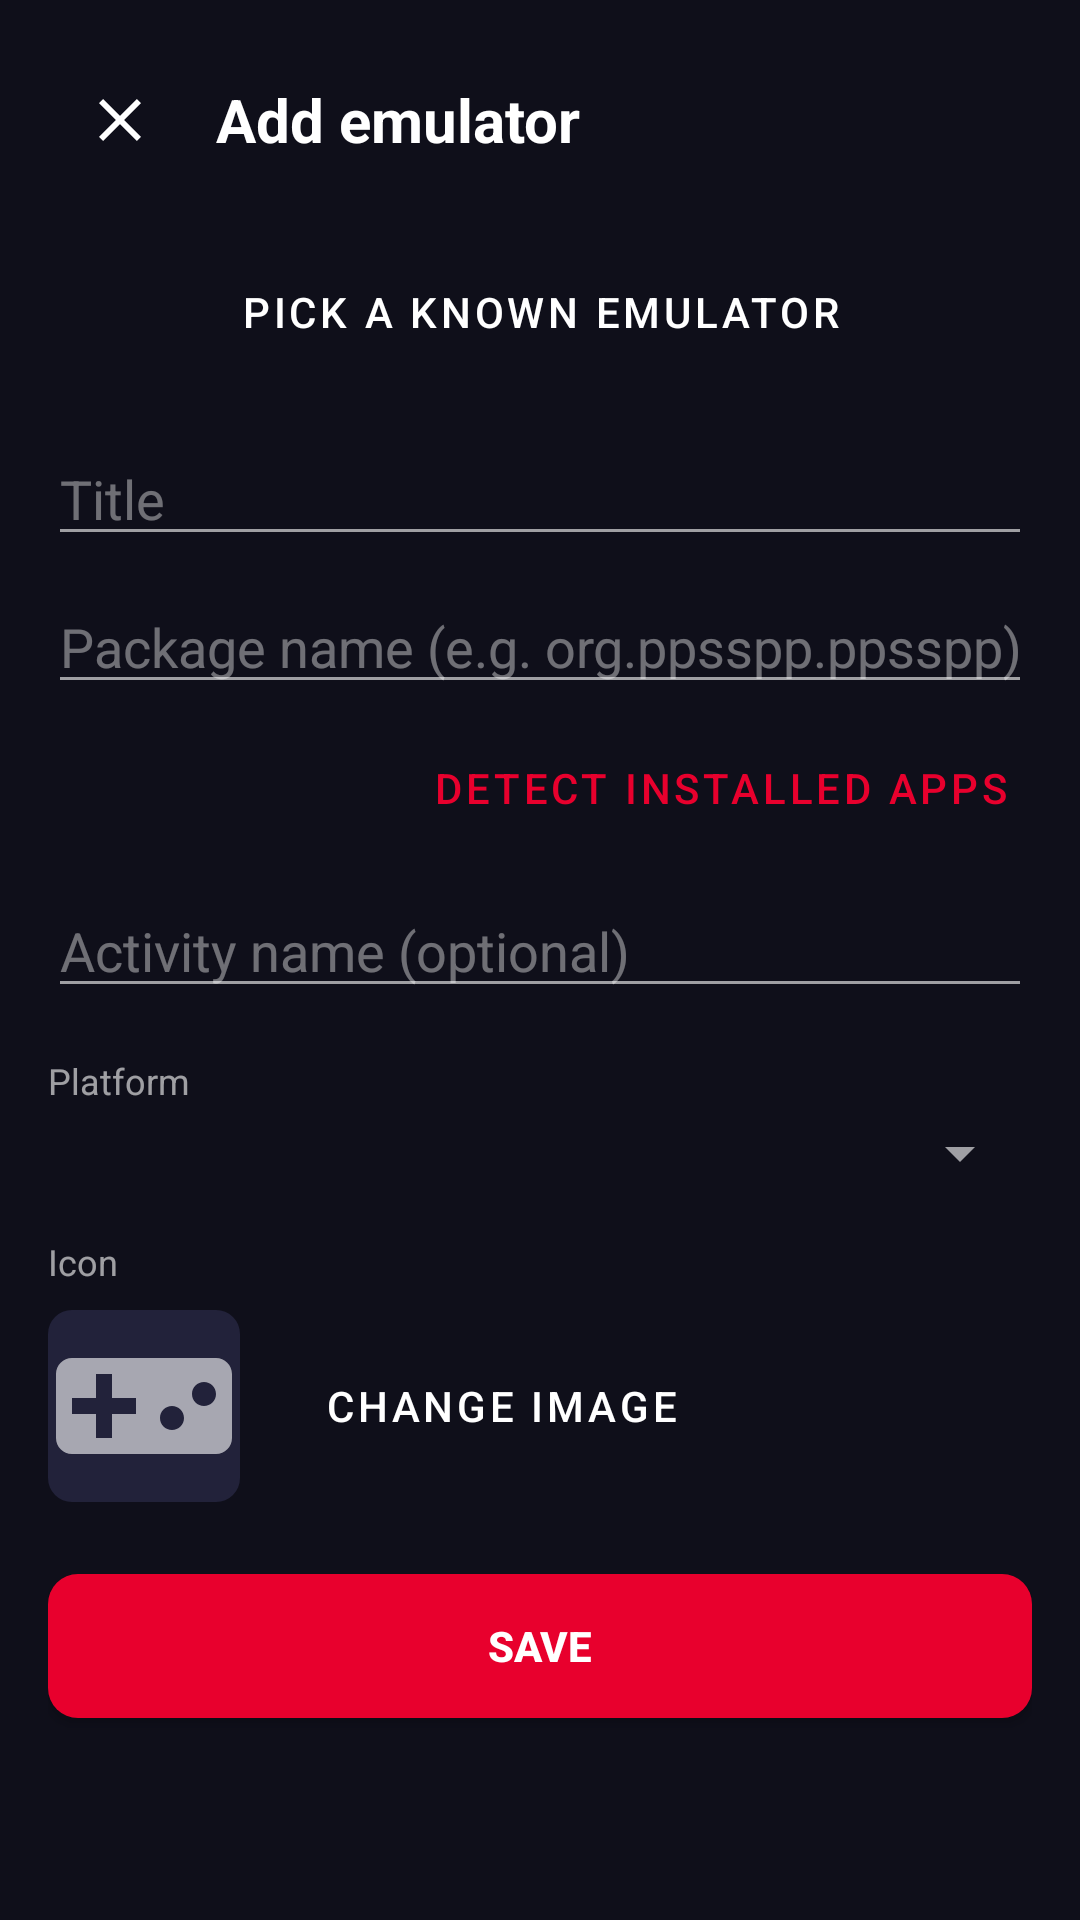

Screen size 1080px x 1920px. Icon name, then its box in pixels as (x1,y1,x2,y2):
Close: (99,99,141,141)
